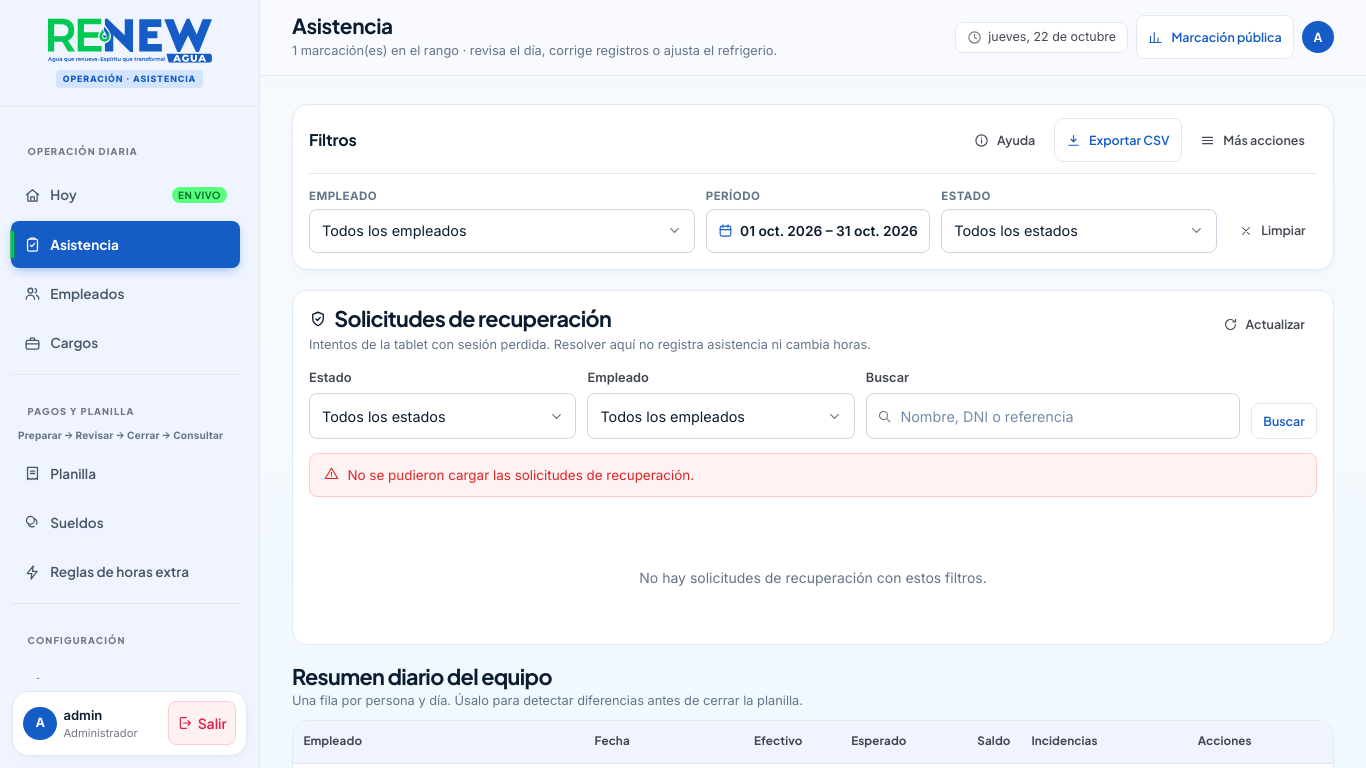
Test case: Admin — barra superior de asistencia › Ayuda revela las definiciones de columnas solo cuando se piden
Click the button "Ayuda" at [1005, 140], box 962,118 -> 1048,162
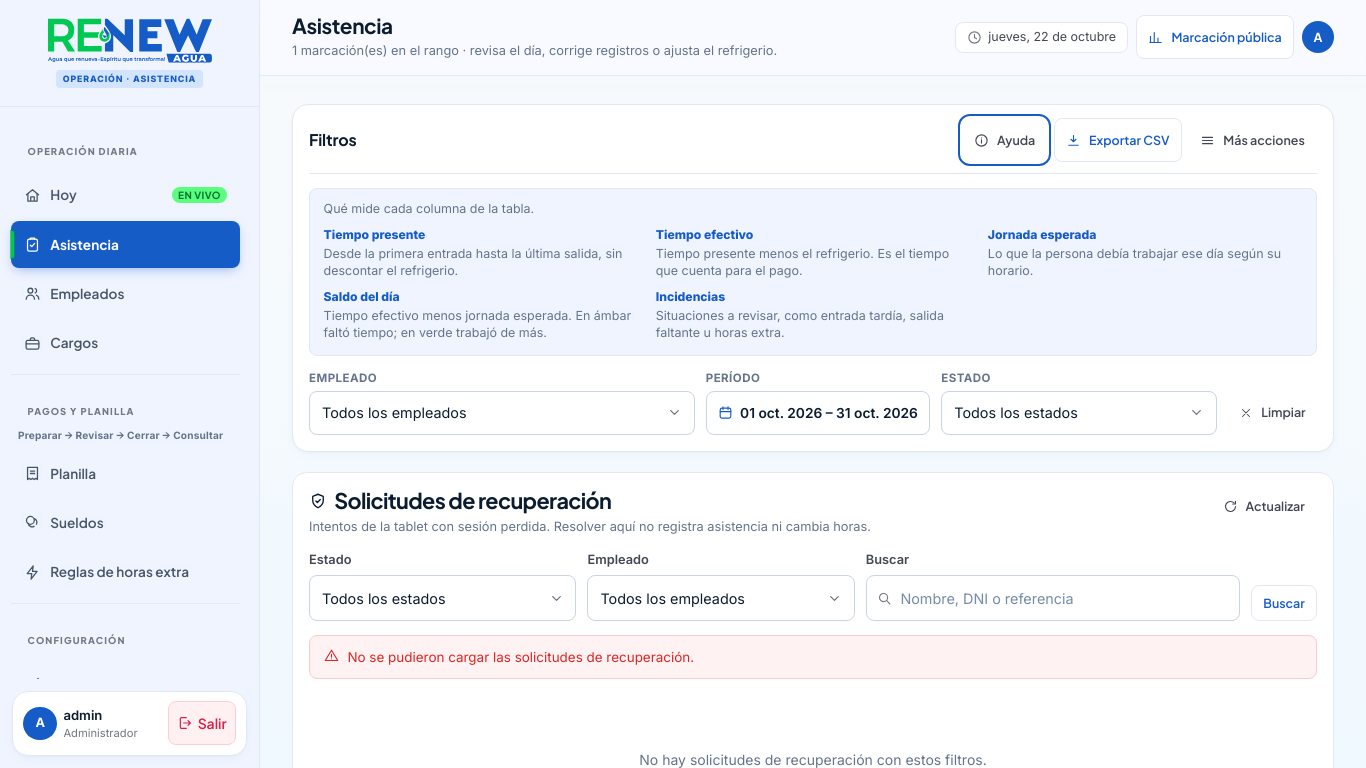
Expected: the text "Desde la primera entrada hasta la última salida" is shown, 324,246 -> 622,278
Expected: the text "Tiempo presente menos el refrigerio" is shown, 656,246 -> 949,278
Expected: the text "Lo que la persona debía trabajar ese día según su horario." is shown, 988,245 -> 1302,280
